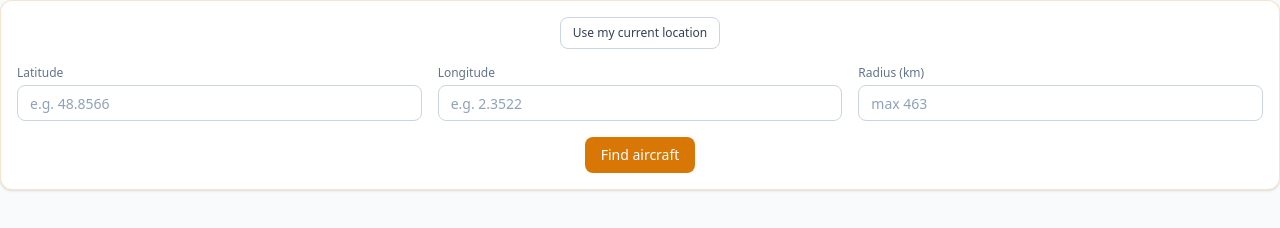
Test: FlyOverForm › does not submit and shows an error for out-of-range latitude
Type "999" into the field labelled "Latitude" at (219,103), box 17,85 -> 422,121
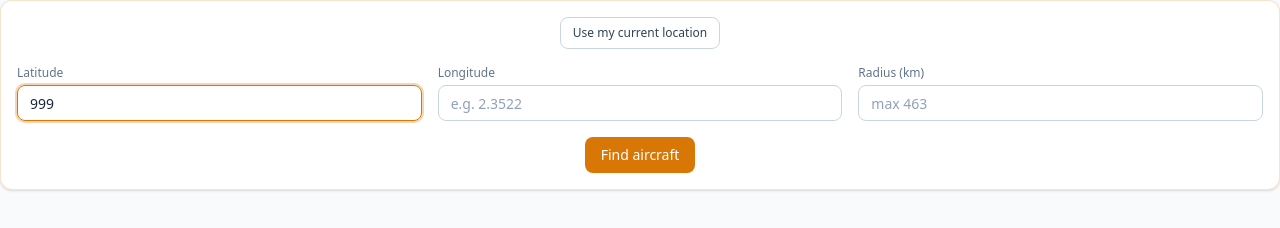
Type "2.3522" into the field labelled "Longitude" at (640,103), box 438,85 -> 842,121
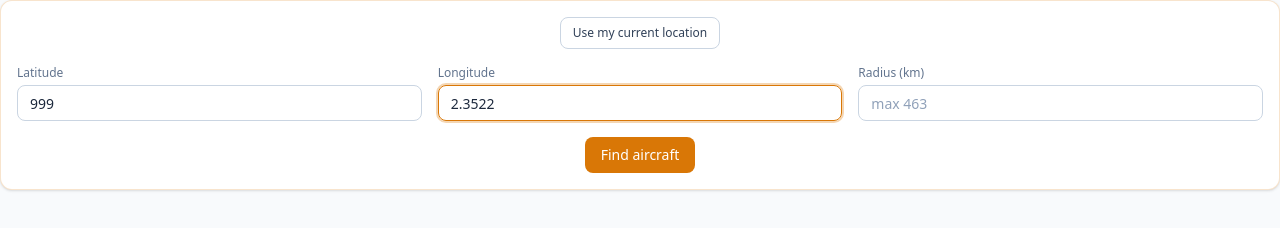
Type "50" into the field labelled "Radius (km)" at (1061,103), box 858,85 -> 1263,121
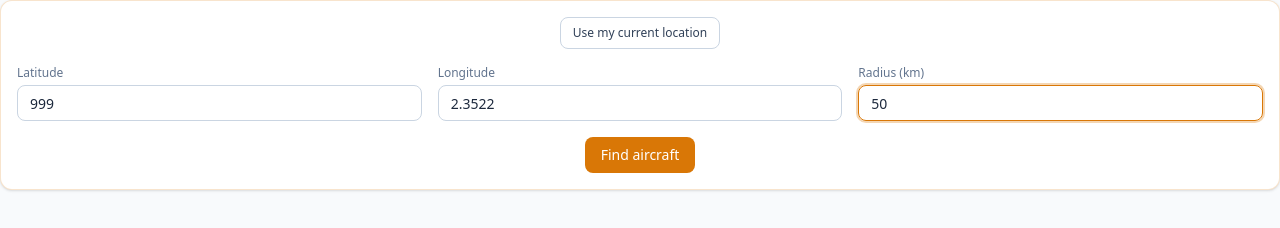
Click the button "Find aircraft" at (640,155), box 585,137 -> 695,173
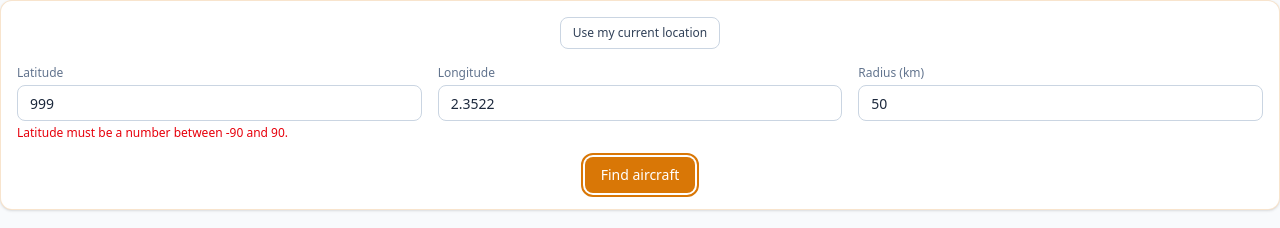
Expected: the message shows "Latitude", 17,124 -> 288,141
